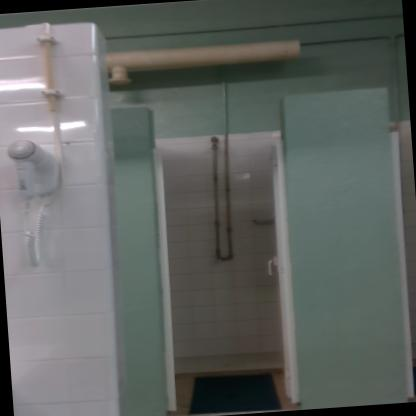open: (110, 99, 328, 415)
